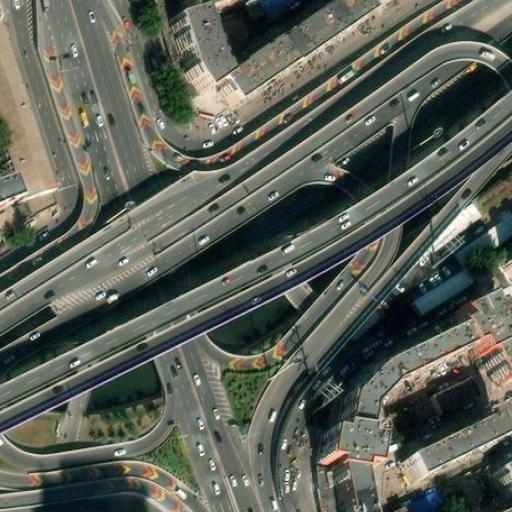building: (315, 299, 512, 512), (396, 418, 498, 491), (412, 267, 467, 314), (425, 374, 480, 419), (398, 486, 447, 512), (488, 454, 512, 494)
